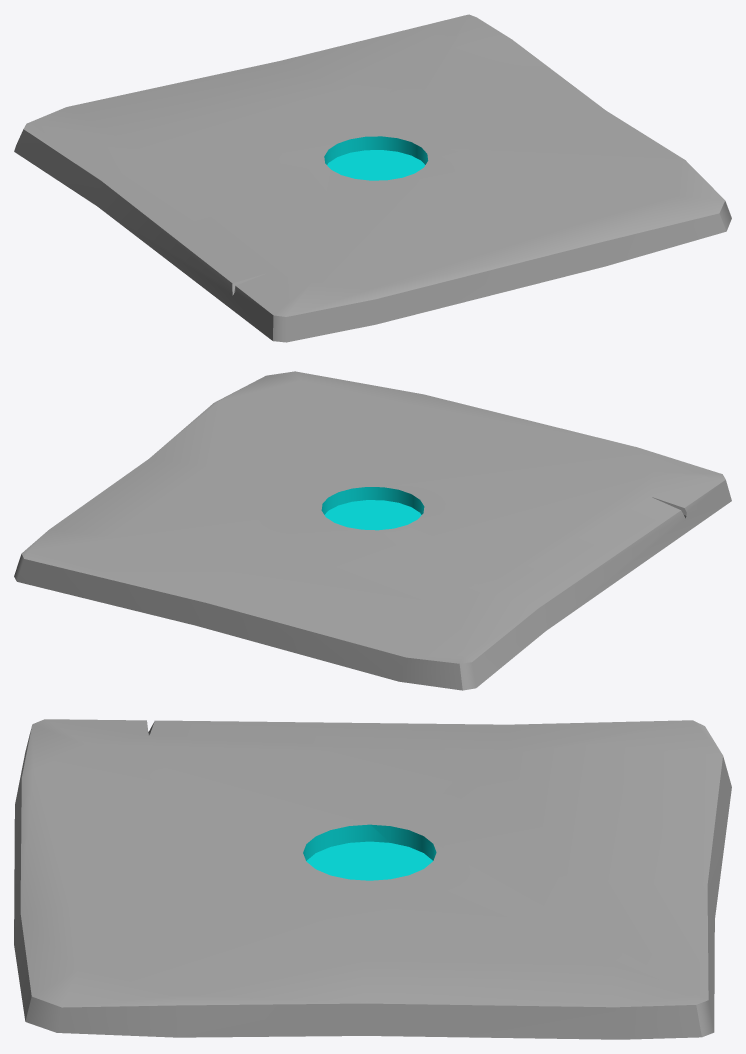
File: dalle1.fbx
The picture shows the model from 3 angles, top to bottom: view 1: azimuth 30°, elevation 25°; view 2: azimuth 150°, elevation 25°; view 3: azimuth 270°, elevation 25°; orthographic projection. The views are drawn at different scales.
Visible parts, largest first — view 1: pCube4; view 2: pCube4; view 3: pCube4.
Part boxes in pixels (x1,y1,x2,y2): pCube4: (14,14,731,342); pCube4: (14,371,731,690); pCube4: (14,719,731,1039).
Bounding box in the file's own units: 6.99 × 0.4395 × 7.18.
